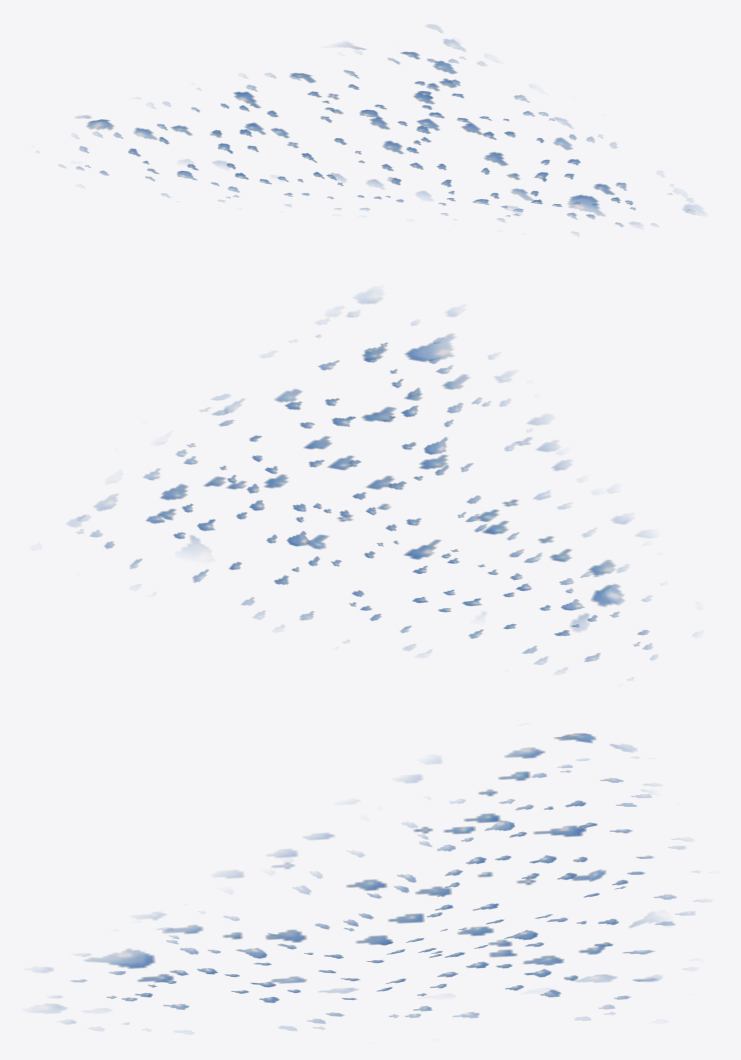
3 renders of one model, top to bottom at view 1: azimuth 30°, elevation 25°; view 2: azimuth 150°, elevation 25°; view 3: azimuth 270°, elevation 25°, orthographic. The views are drawn at different scales.
Visible parts, largest first — view 1: 26800; view 2: 26800; view 3: 26800.
Boxes of the visible parts, bbox=[...] form: 26800: bbox=[36, 24, 704, 235]; 26800: bbox=[67, 289, 657, 680]; 26800: bbox=[31, 733, 707, 1033].
Size of the model in its own units: 1.66 by 0.2014 by 1.67.
Materials: 1 (1 with a texture image).
